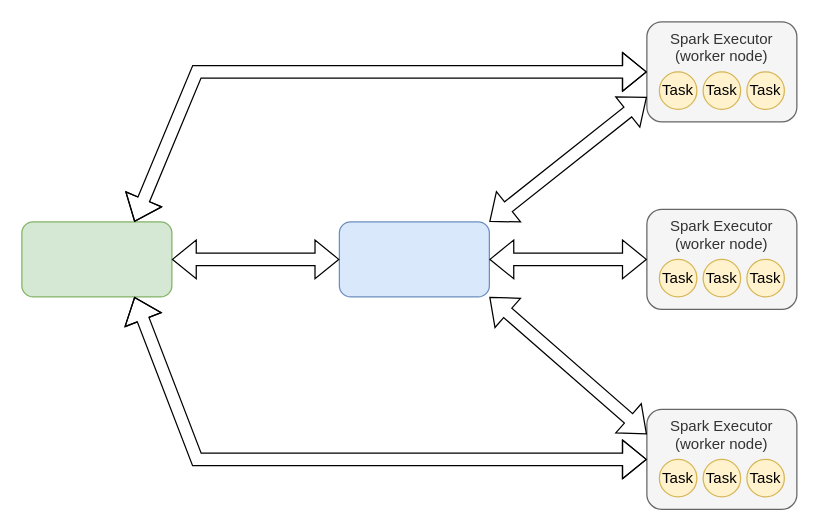
This 819x531 diagram has some shape labels left out. The shapes that lost their labels are listed below. From the top down, each one's box as (x1, y1, x2, y2) in pixels, then its label:
(21, 221, 172, 297): Spark Driver
(338, 221, 489, 297): Cluster Manager (master node)
